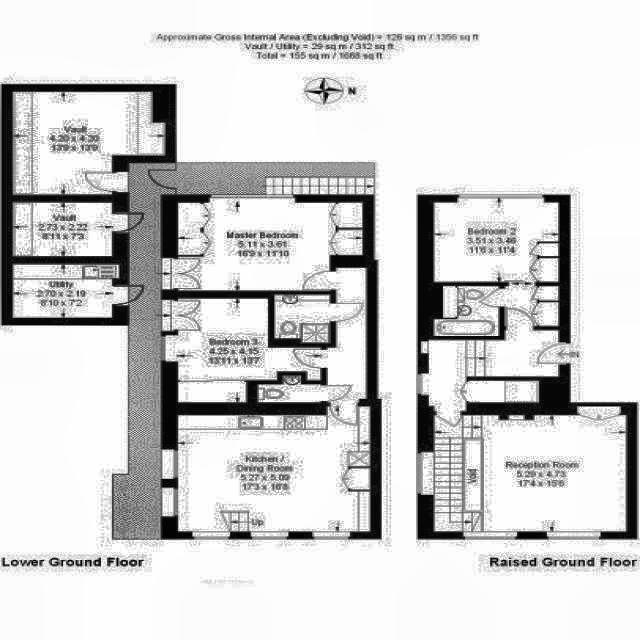room: (433, 406, 628, 532), (178, 407, 370, 532), (178, 203, 363, 290), (13, 92, 165, 195), (178, 298, 320, 403), (434, 203, 559, 282), (12, 264, 120, 318), (326, 267, 367, 399), (13, 202, 112, 256), (434, 285, 498, 336), (274, 294, 330, 343), (429, 340, 466, 410), (505, 331, 558, 377), (504, 286, 559, 326), (258, 375, 322, 402), (468, 381, 539, 403), (468, 341, 503, 376)
